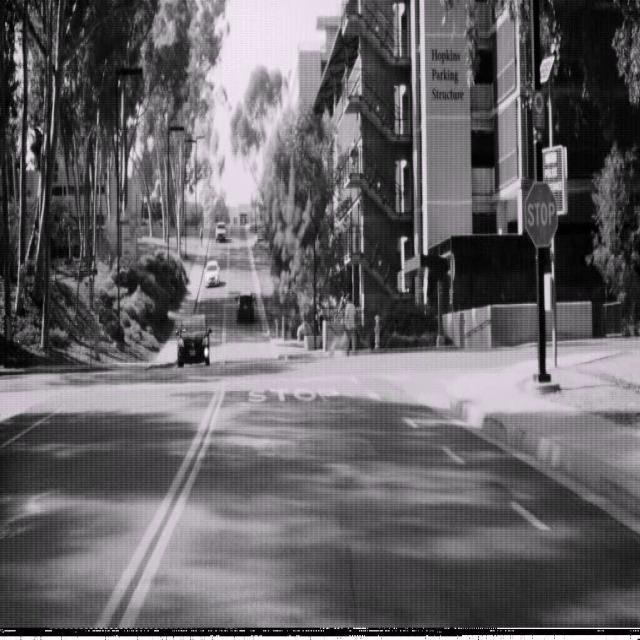stop: (524, 179, 558, 248)
